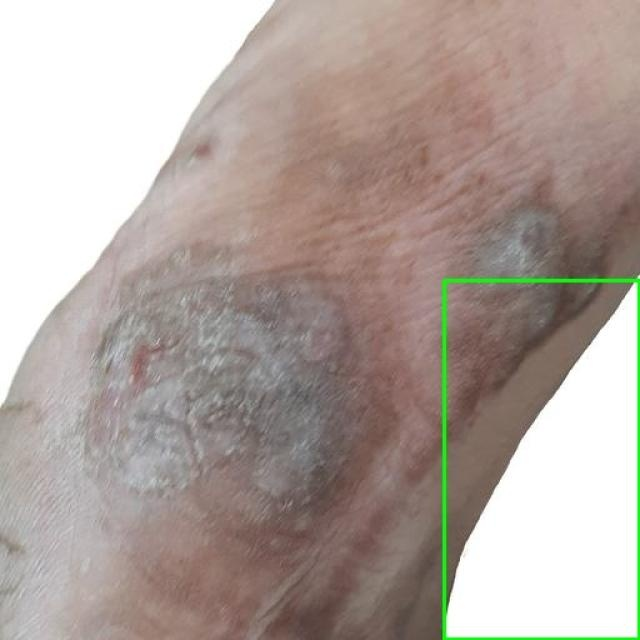Contact Dermatitis: (444, 280, 639, 639)
